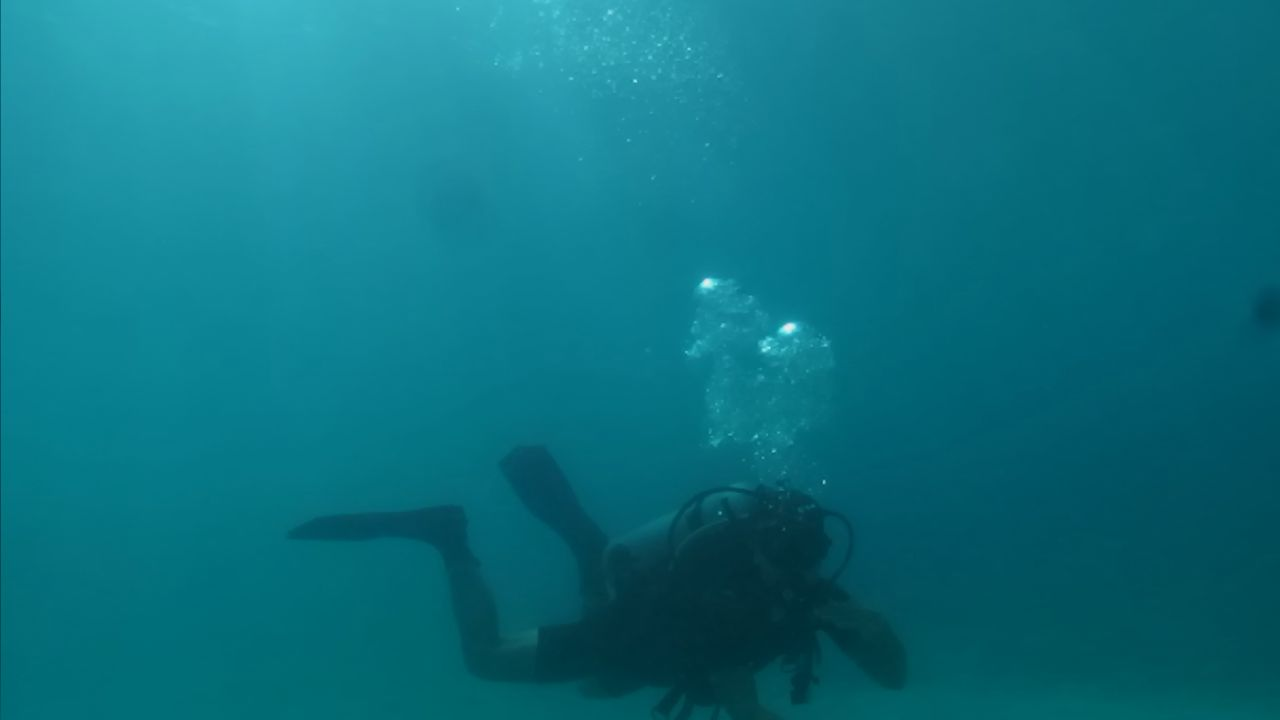Diver: (260, 392, 934, 716)
